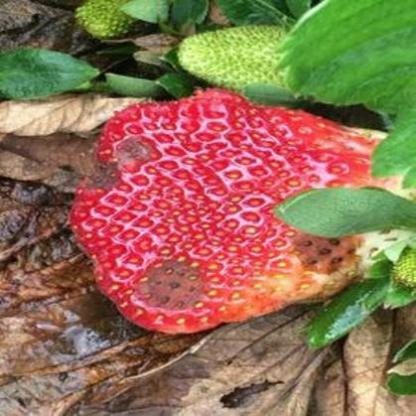Strawberry_Anthracnose_Fruit_Rot: (279, 228, 366, 283), (130, 258, 210, 314), (83, 136, 154, 192)
